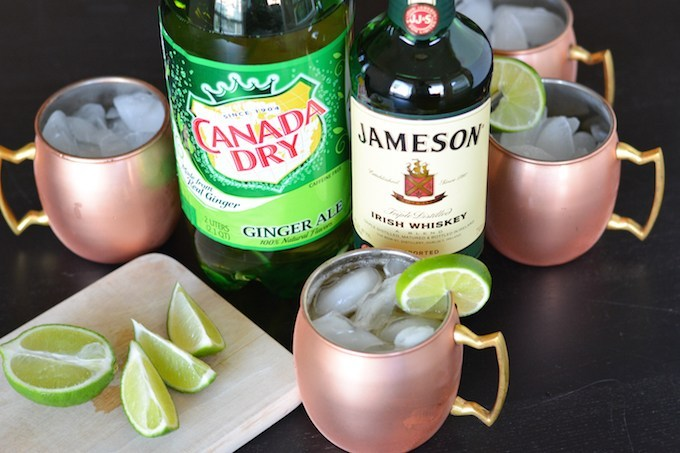Jameson: (341, 1, 496, 274)
